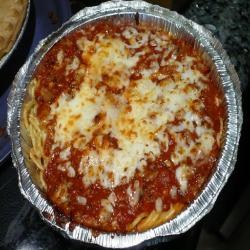bolonese_pasta: (19, 16, 236, 246)
